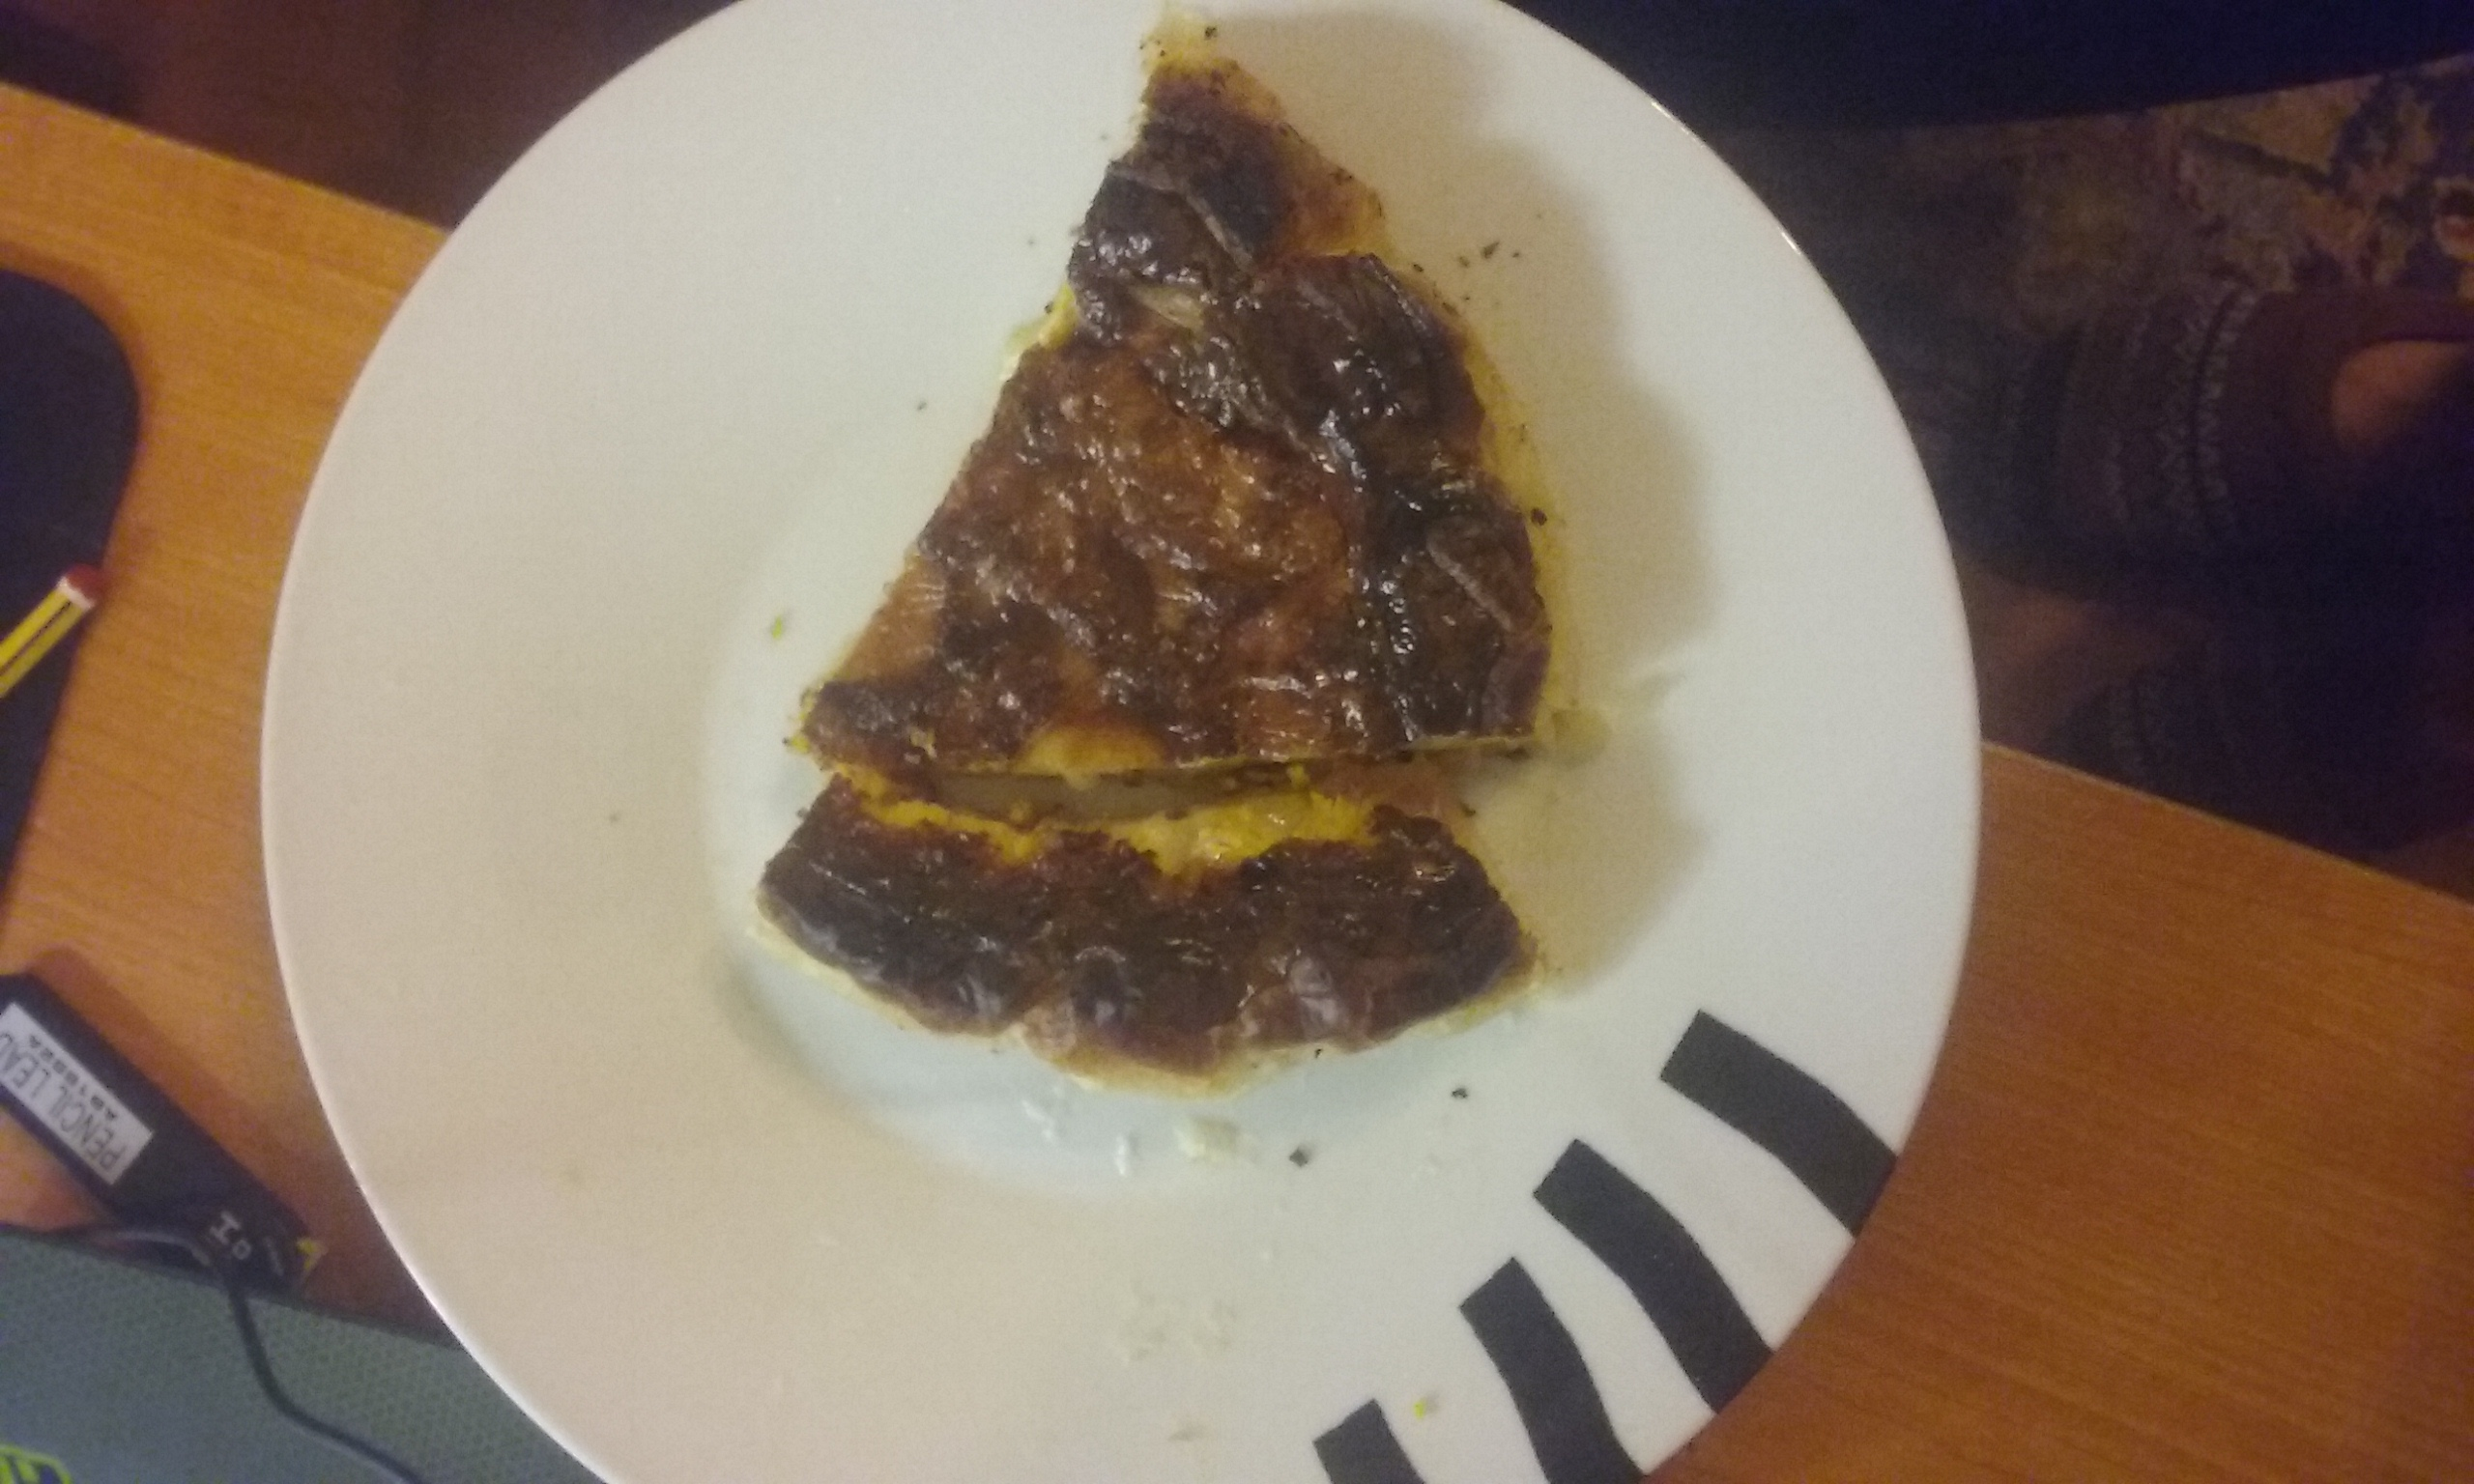61-80: (286, 19, 1977, 1470)
